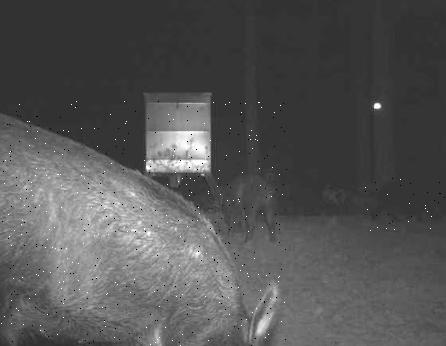Hog: (0, 101, 287, 346), (209, 169, 284, 245), (364, 175, 446, 231)
